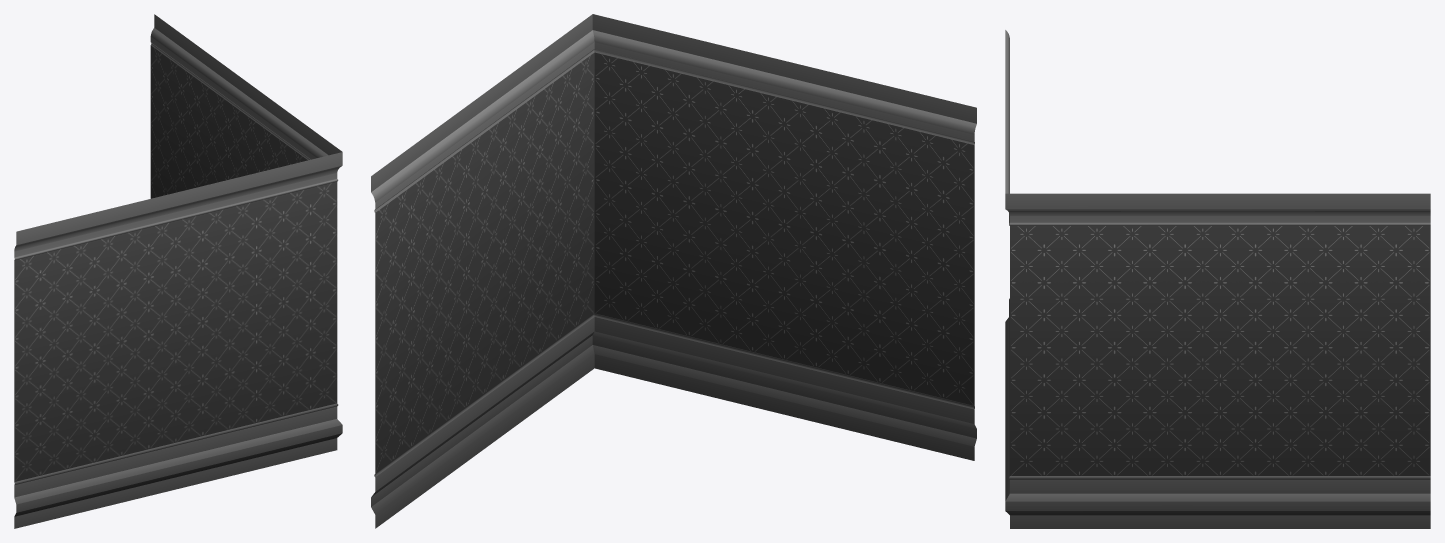
Rendered from Wall_02_Ext_Long_Light.fbx.
The picture shows the model from 3 angles, left to right: view 1: azimuth 30°, elevation 25°; view 2: azimuth 150°, elevation 25°; view 3: azimuth 270°, elevation 25°; orthographic projection. The views are drawn at different scales.
Parts seen in each view (by area): view 1: Wall_02_Ext_Long_Light; view 2: Wall_02_Ext_Long_Light; view 3: Wall_02_Ext_Long_Light.
Boxes of the visible parts, x1=… form: Wall_02_Ext_Long_Light: x1=14, y1=14, x2=342, y2=528; Wall_02_Ext_Long_Light: x1=371, y1=14, x2=976, y2=528; Wall_02_Ext_Long_Light: x1=1005, y1=30, x2=1430, y2=528.
Bounding box in the file's own units: 3.03 × 2.65 × 3.03.
